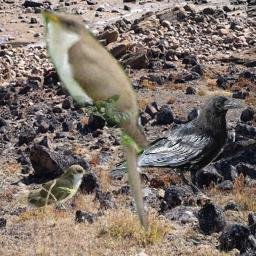Crow: (108, 93, 244, 200)
Cuckoo: (30, 2, 156, 237), (16, 164, 91, 209)
